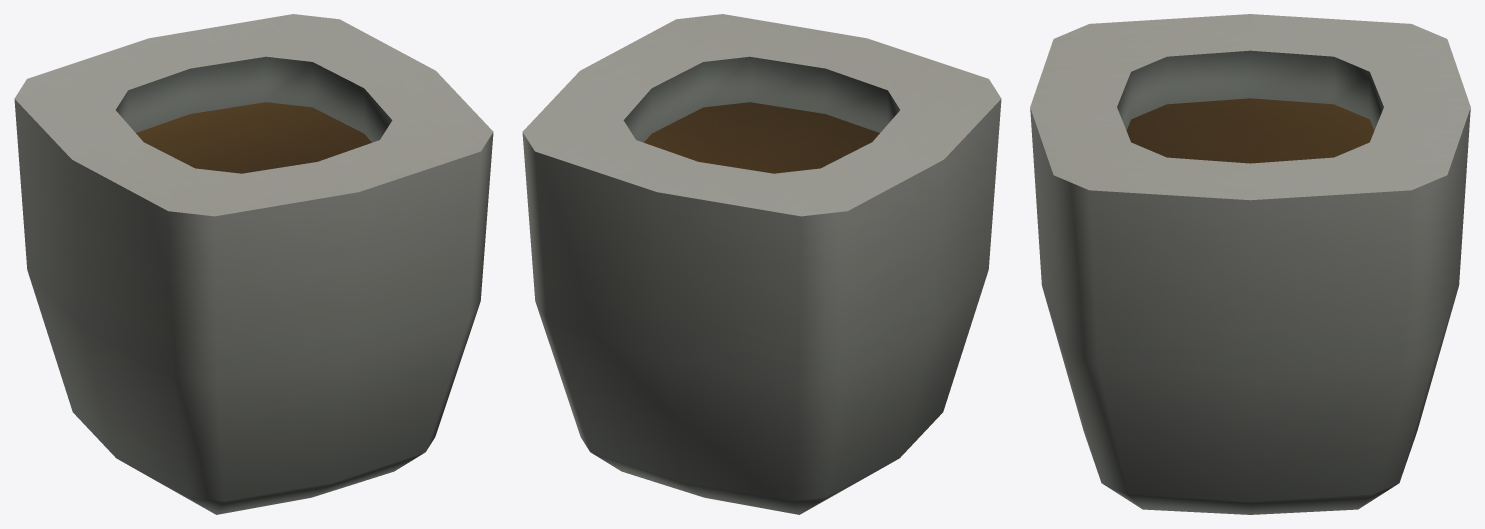
Rendered from flower_pot_lightgrey.fbx.
The picture shows the model from 3 angles, left to right: view 1: azimuth 30°, elevation 25°; view 2: azimuth 150°, elevation 25°; view 3: azimuth 270°, elevation 25°; orthographic projection. The views are drawn at different scales.
Visible parts, largest first — view 1: flower_pot_lightgrey; view 2: flower_pot_lightgrey; view 3: flower_pot_lightgrey.
Boxes of the visible parts, x1,y1,x2,y2 form: flower_pot_lightgrey: (14, 14, 493, 514); flower_pot_lightgrey: (522, 14, 1001, 514); flower_pot_lightgrey: (1030, 14, 1470, 514).
Size of the model in its own units: 42.26 by 37.77 by 42.26.
